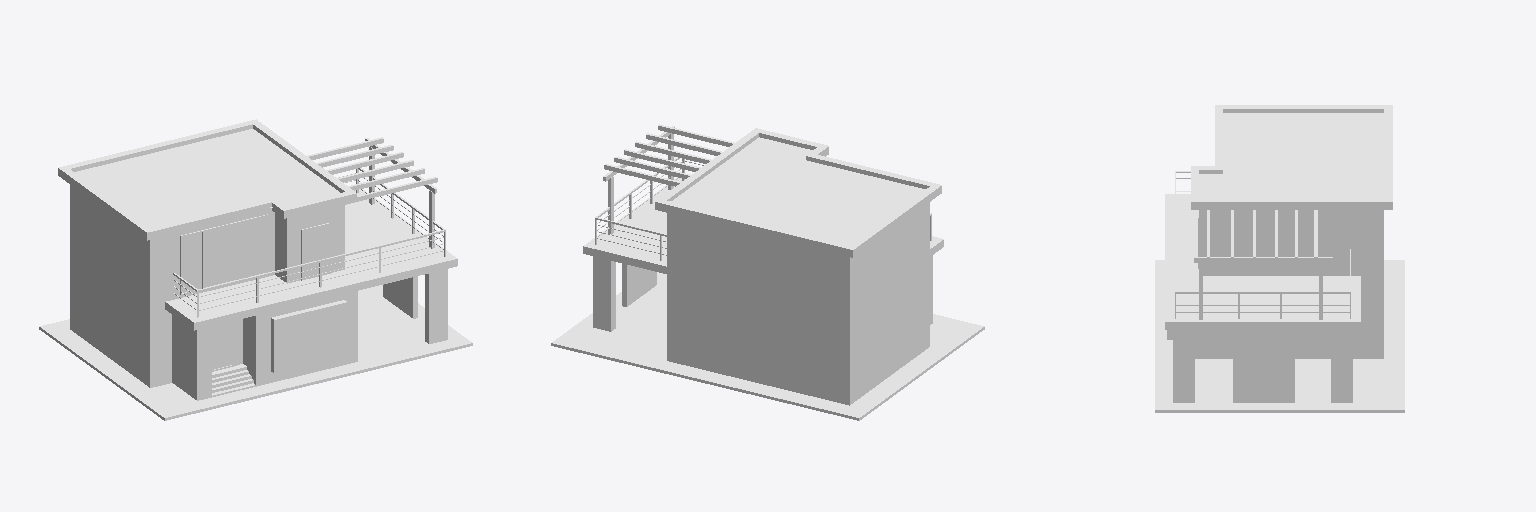
Rendered from Building_House_01_color01.obj.
3 renders of one model, left to right at view 1: azimuth 30°, elevation 25°; view 2: azimuth 150°, elevation 25°; view 3: azimuth 270°, elevation 25°, orthographic.
Bounding box in the file's own units: 1789 × 905 × 1260.